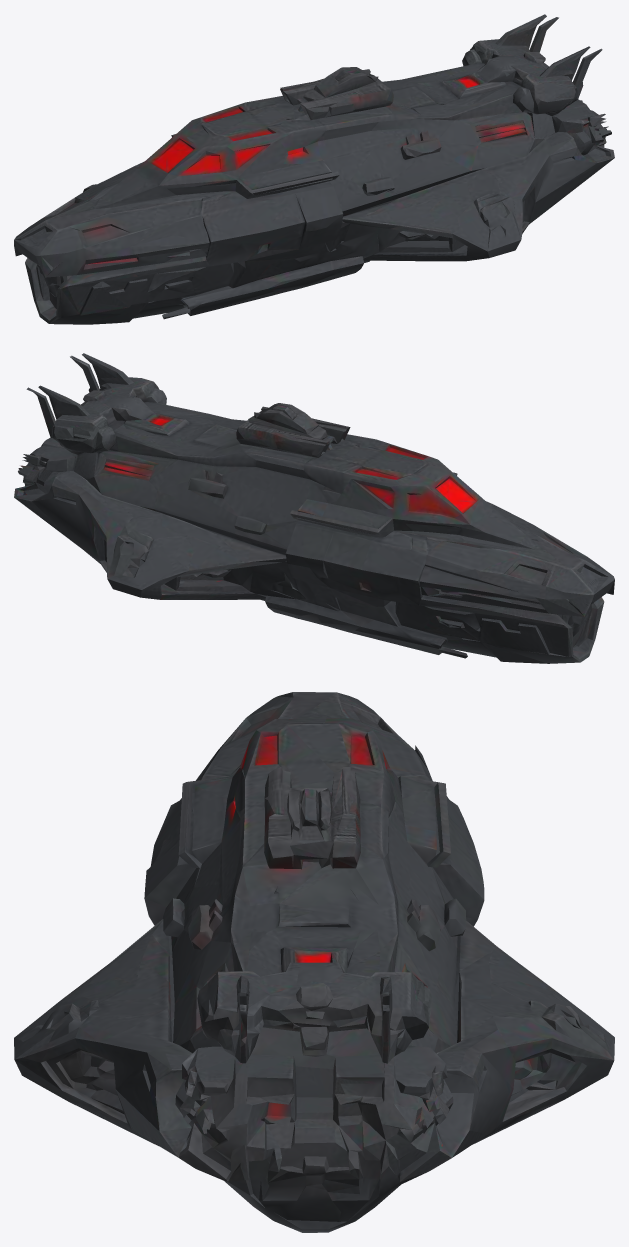
File: cruiser.glb
The picture shows the model from 3 angles, top to bottom: view 1: azimuth 30°, elevation 25°; view 2: azimuth 150°, elevation 25°; view 3: azimuth 270°, elevation 25°; orthographic projection. The views are drawn at different scales.
Bounding box in the file's own units: 1.89 × 0.6318 × 1.08.
1 material, 1 textured.
